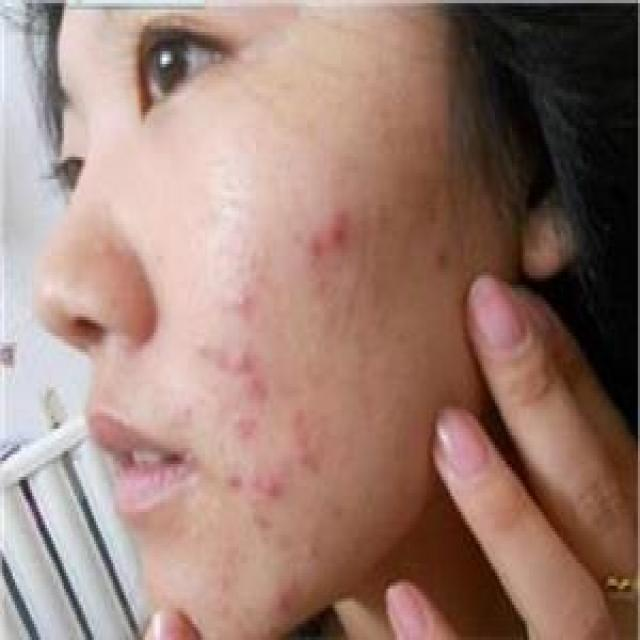acne: (325, 211, 359, 250), (241, 372, 273, 407), (228, 279, 256, 314), (303, 221, 322, 269), (271, 582, 292, 621), (256, 471, 284, 500), (284, 403, 311, 432), (235, 410, 258, 442), (222, 461, 243, 493), (293, 439, 312, 471), (235, 346, 258, 368), (245, 464, 256, 480)
